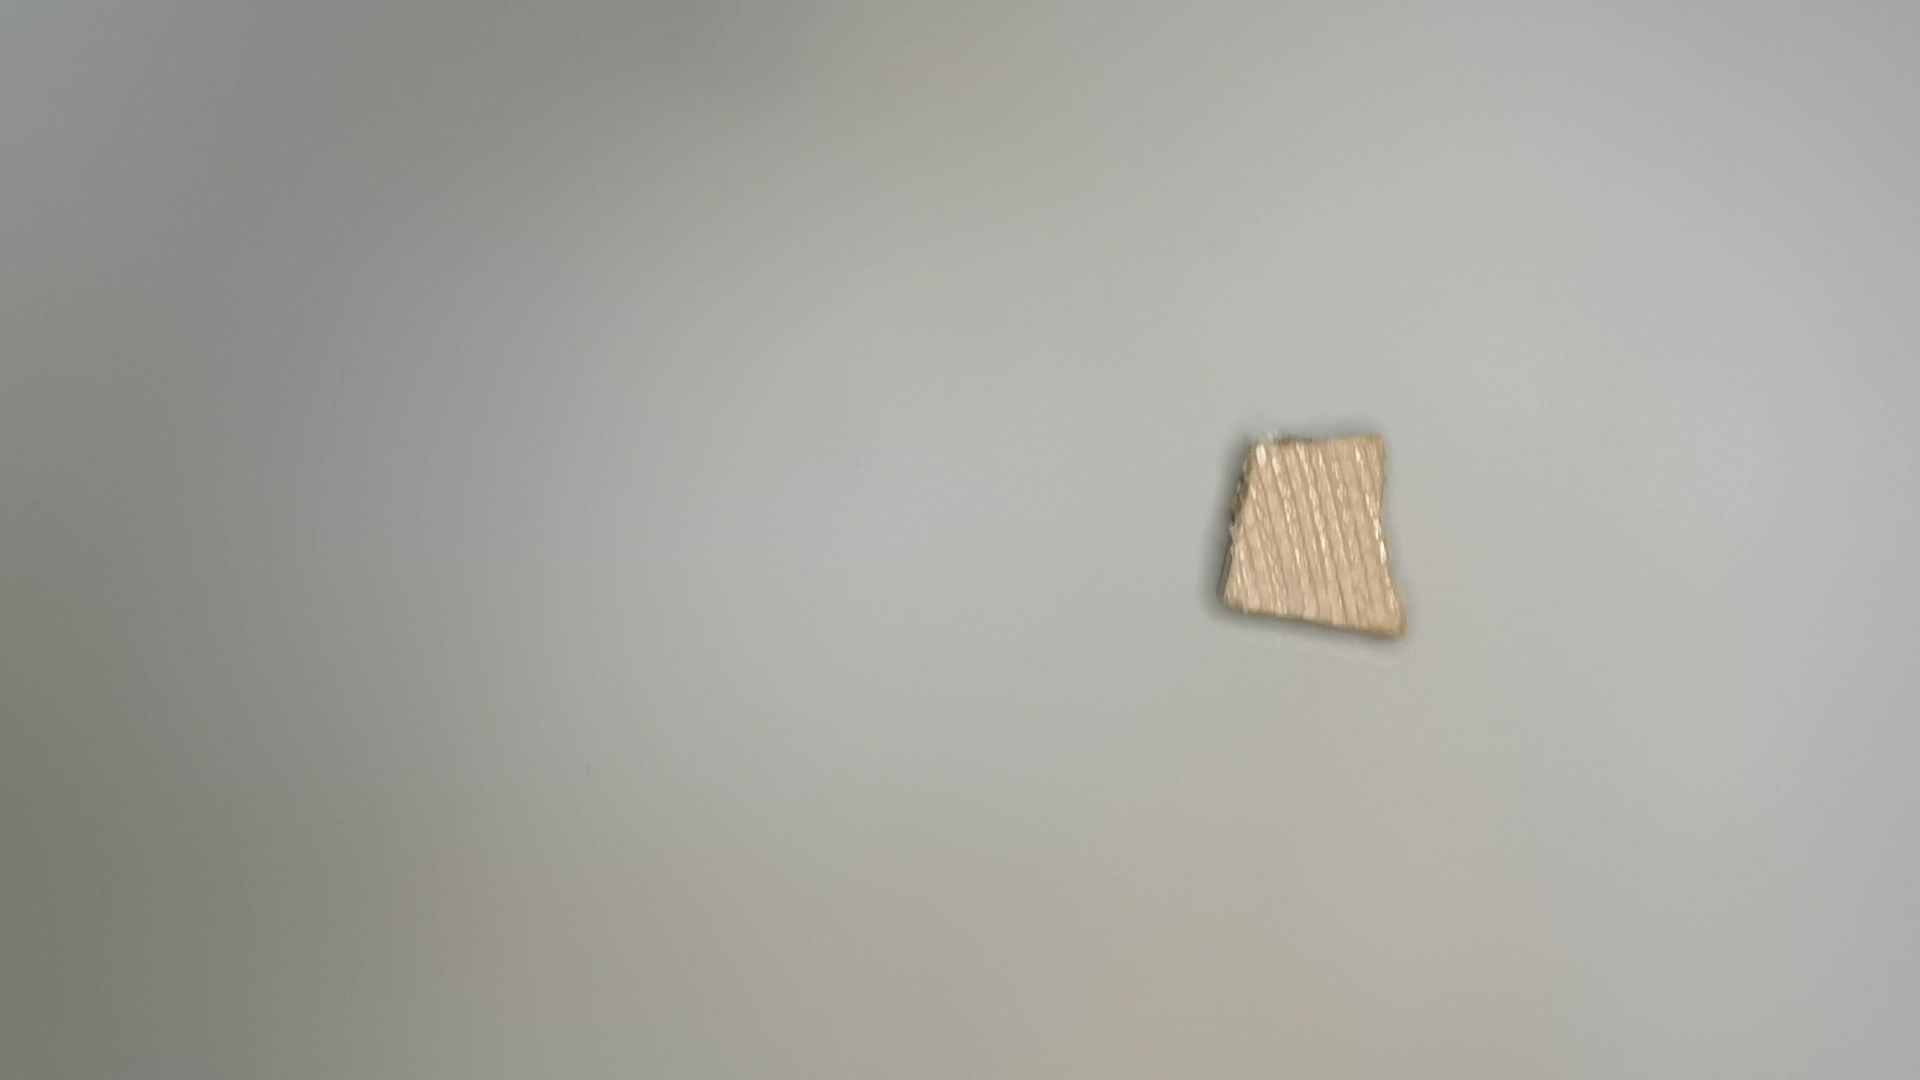ceramic: (1203, 425, 1429, 650)
